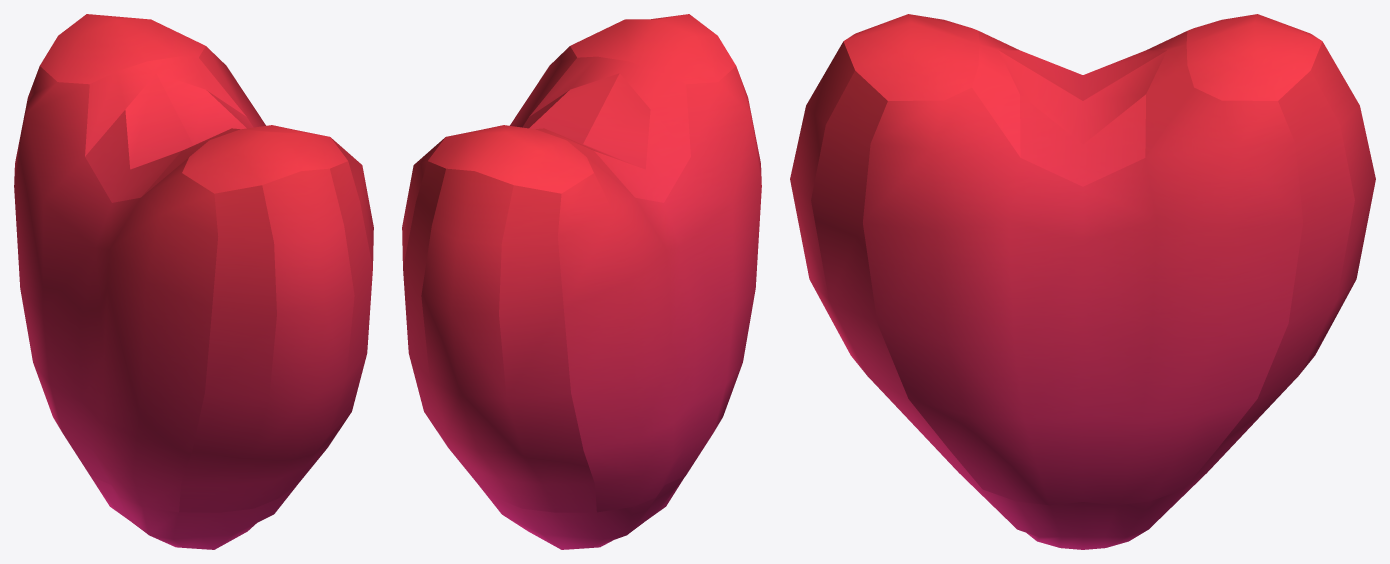
File: love_essence_03.fbx
3 renders of one model, left to right at view 1: azimuth 30°, elevation 25°; view 2: azimuth 150°, elevation 25°; view 3: azimuth 270°, elevation 25°, orthographic. The views are drawn at different scales.
Visible parts, largest first — view 1: love_essence; view 2: love_essence; view 3: love_essence.
Boxes of the visible parts, x1,y1,x2,y2 form: love_essence: (14,14,373,549); love_essence: (402,14,761,549); love_essence: (790,14,1375,549).
Bounding box in the file's own units: 0.6901 × 1.27 × 1.3.
